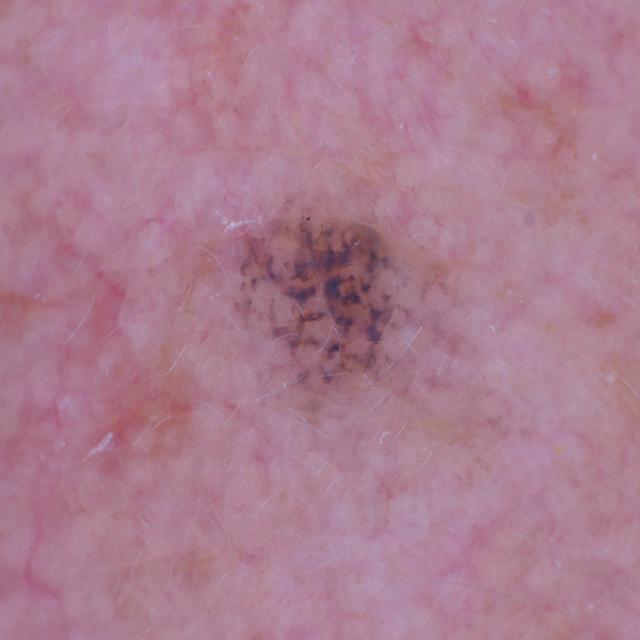Skin-Cancer Pigmented benign keratosis: (24, 34, 604, 615)
